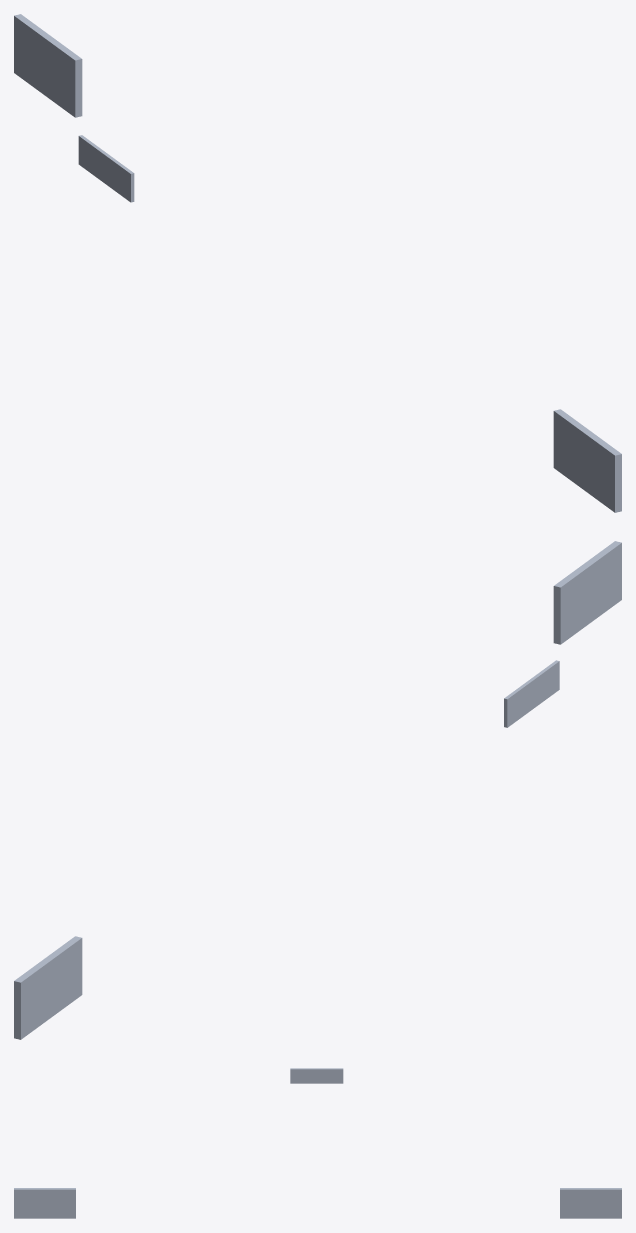
Rendered from Mirrors.glb.
3 renders of one model, top to bottom at view 1: azimuth 30°, elevation 25°; view 2: azimuth 150°, elevation 25°; view 3: azimuth 270°, elevation 25°, orthographic. The views are drawn at different scales.
Visible parts, largest first — view 1: RearMirrorCase.011; view 2: RearMirrorCase.011; view 3: RearMirrorCase.011.
Boxes of the visible parts, x1=… form: RearMirrorCase.011: x1=14, y1=14, x2=621, y2=512; RearMirrorCase.011: x1=14, y1=541, x2=621, y2=1039; RearMirrorCase.011: x1=14, y1=1068, x2=621, y2=1218.
Size of the model in its own units: 0.0191 by 0.0159 by 0.0912.
1 material, 1 textured.
